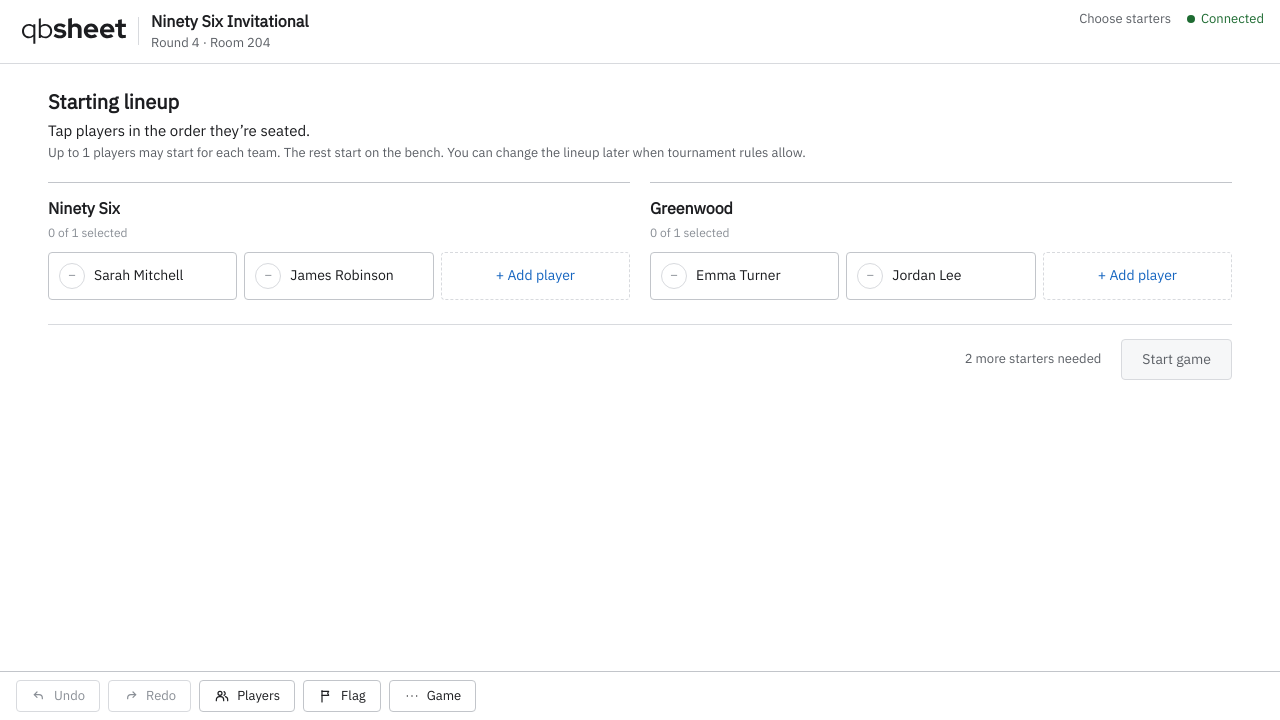
Test: scoring buttons come from the format › only active players get a row, and no empty seats are drawn
Click the button "– Sarah Mitchell".
click(143, 276)  # box [48,252,237,300]
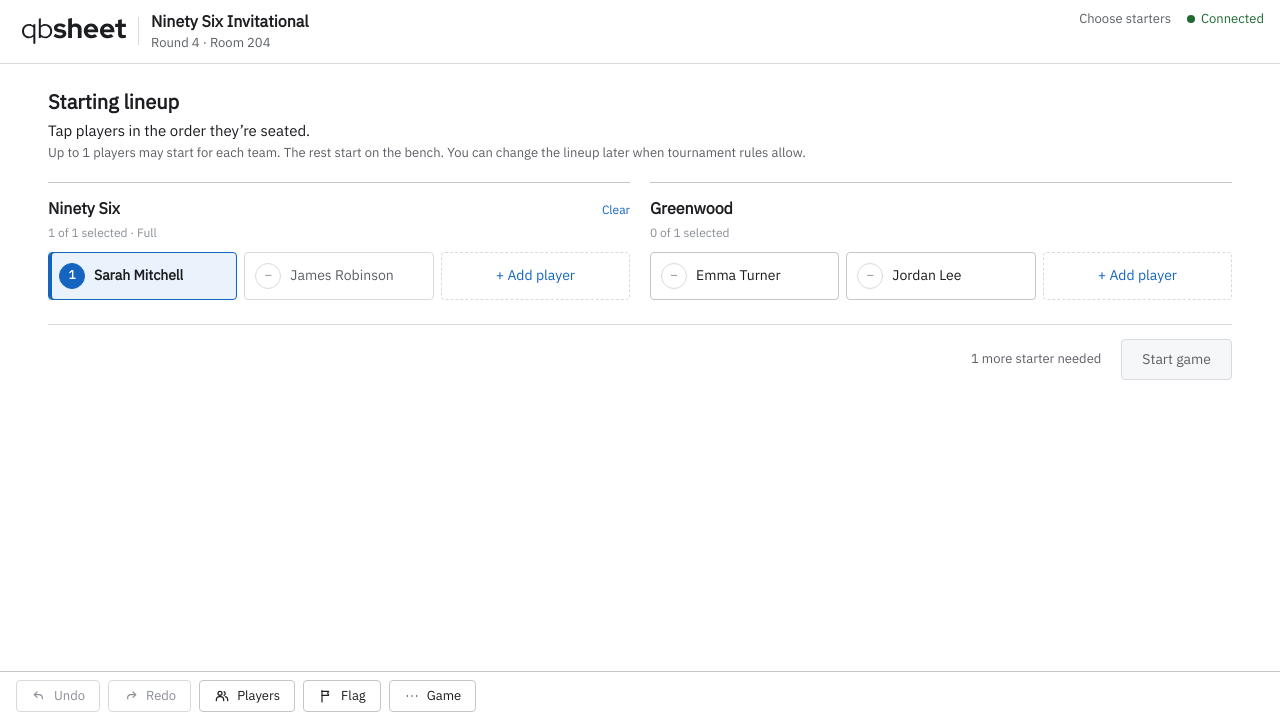
Click the button "– Emma Turner".
click(745, 276)  # box [650,252,839,300]
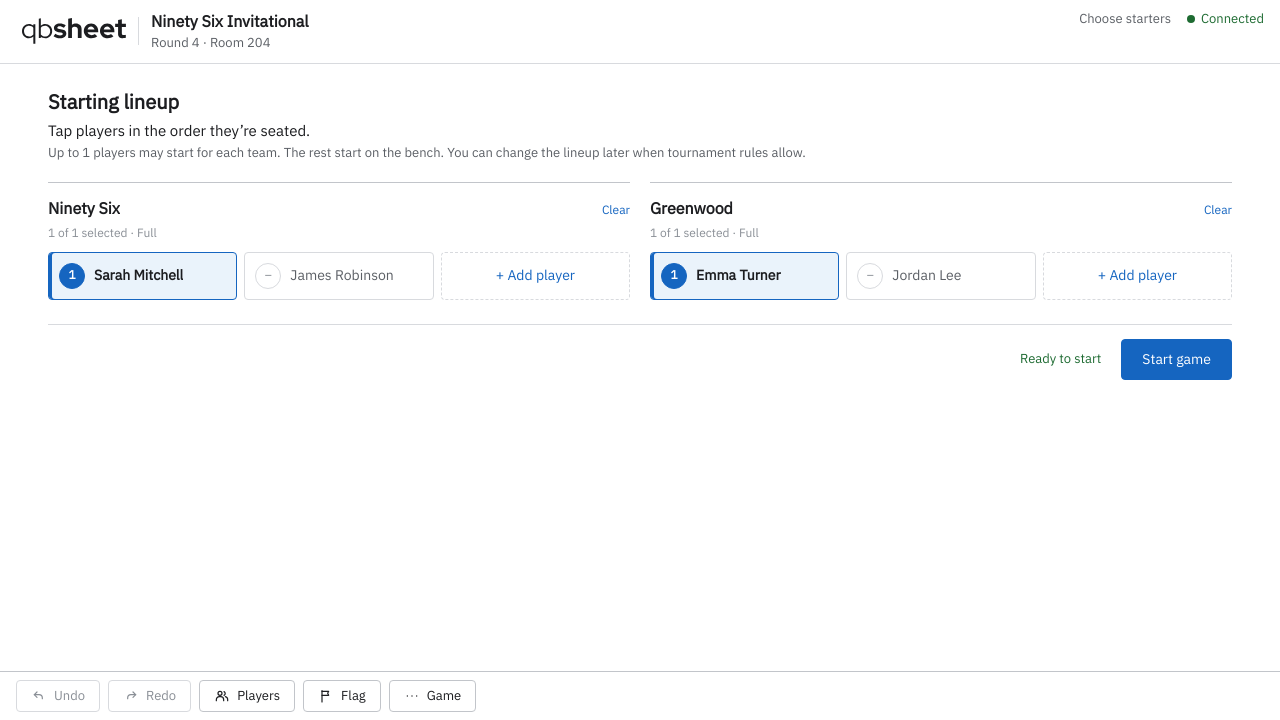
Click the button "Start game".
click(1177, 359)  # box [1121,339,1232,380]
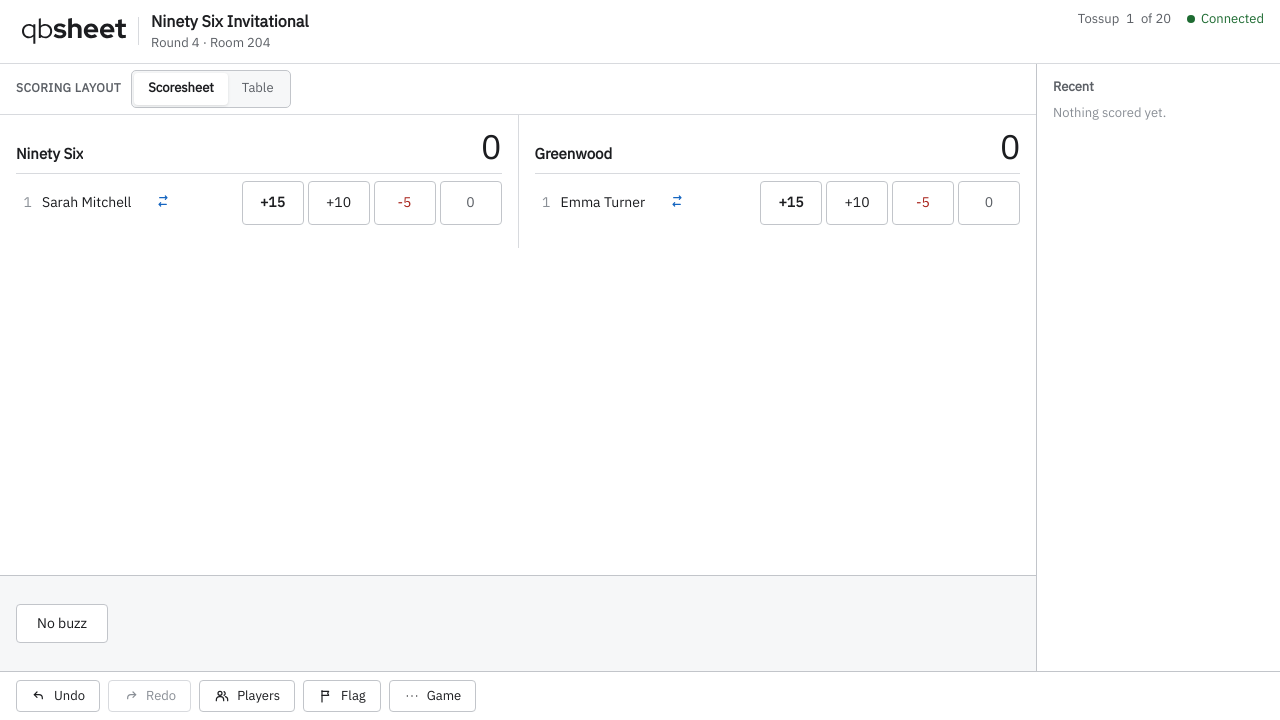
Check: the text "Sarah Mitchell" is shown, box [42,193,131,212]
Check: the button "James Robinson" is gone
